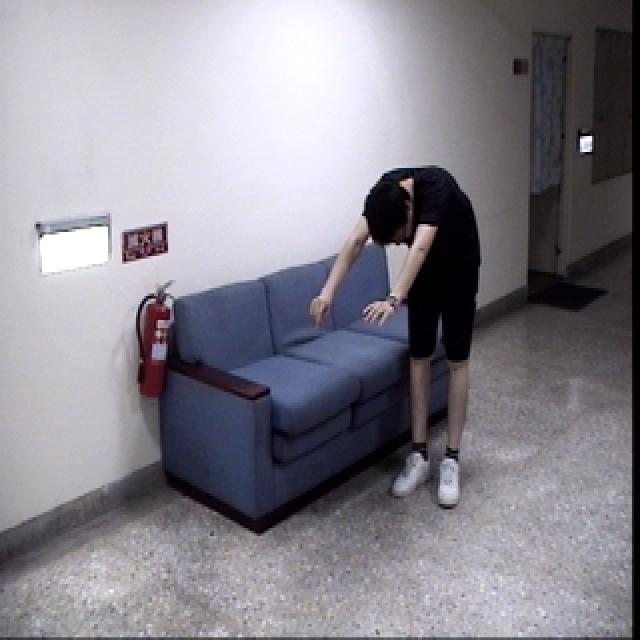bend: (308, 154, 500, 516)
